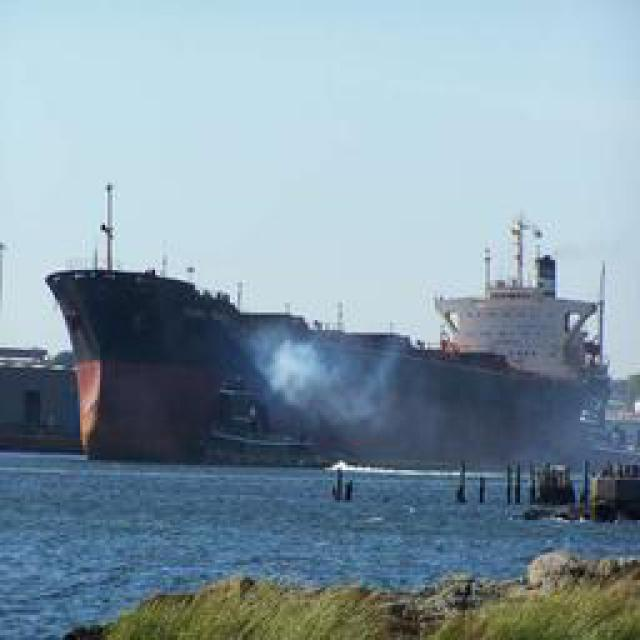Ship: (432, 220, 600, 365)
